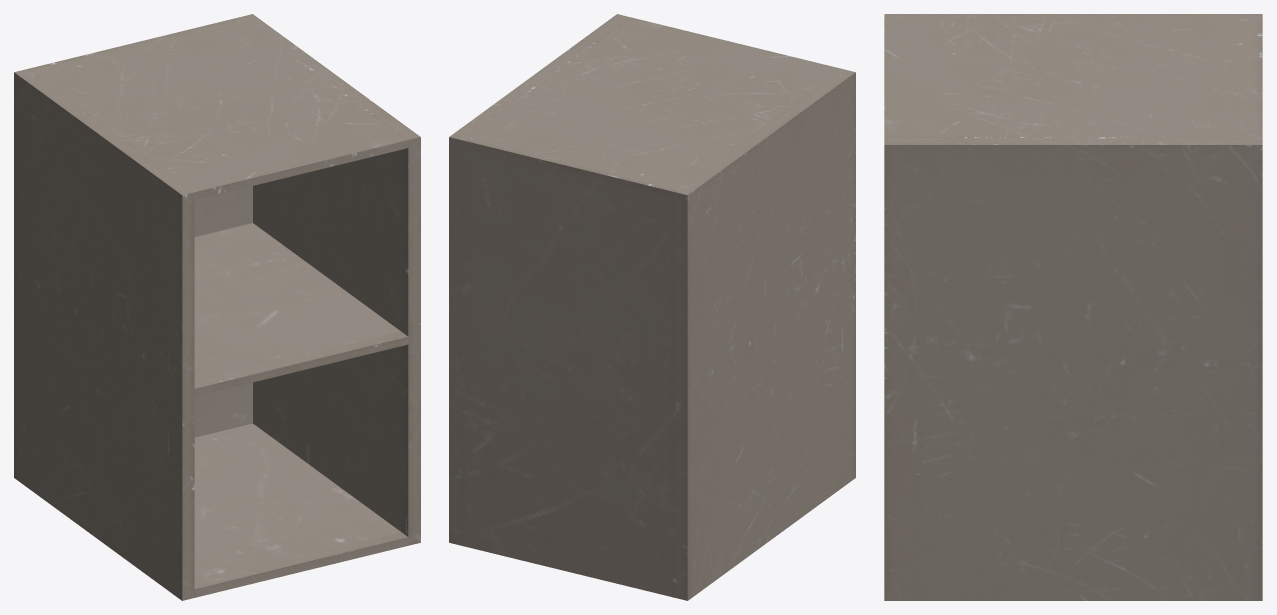
File: SM_Filecabinet_02_Filecabinet_02.fbx
3 views of the same model, side by side, from view 1: azimuth 30°, elevation 25°; view 2: azimuth 150°, elevation 25°; view 3: azimuth 270°, elevation 25° (orthographic). The views are drawn at different scales.
Parts seen in each view (by area): view 1: SM_Filecabinet_02_Filecabinet_02; view 2: SM_Filecabinet_02_Filecabinet_02; view 3: SM_Filecabinet_02_Filecabinet_02.
Part boxes in pixels (x1,y1,x2,y2): SM_Filecabinet_02_Filecabinet_02: [14, 14, 420, 600]; SM_Filecabinet_02_Filecabinet_02: [449, 14, 855, 600]; SM_Filecabinet_02_Filecabinet_02: [884, 14, 1262, 600].
Size of the model in its own units: 38 by 46.36 by 61.71.
1 material, 1 textured.
